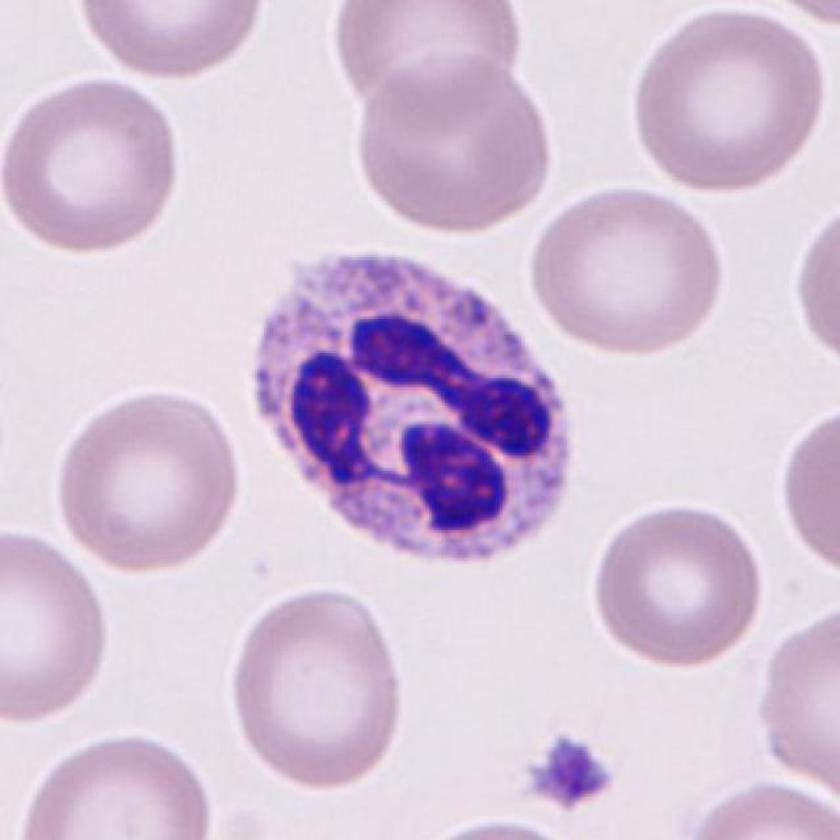neutrophil: (253, 256, 575, 560)
